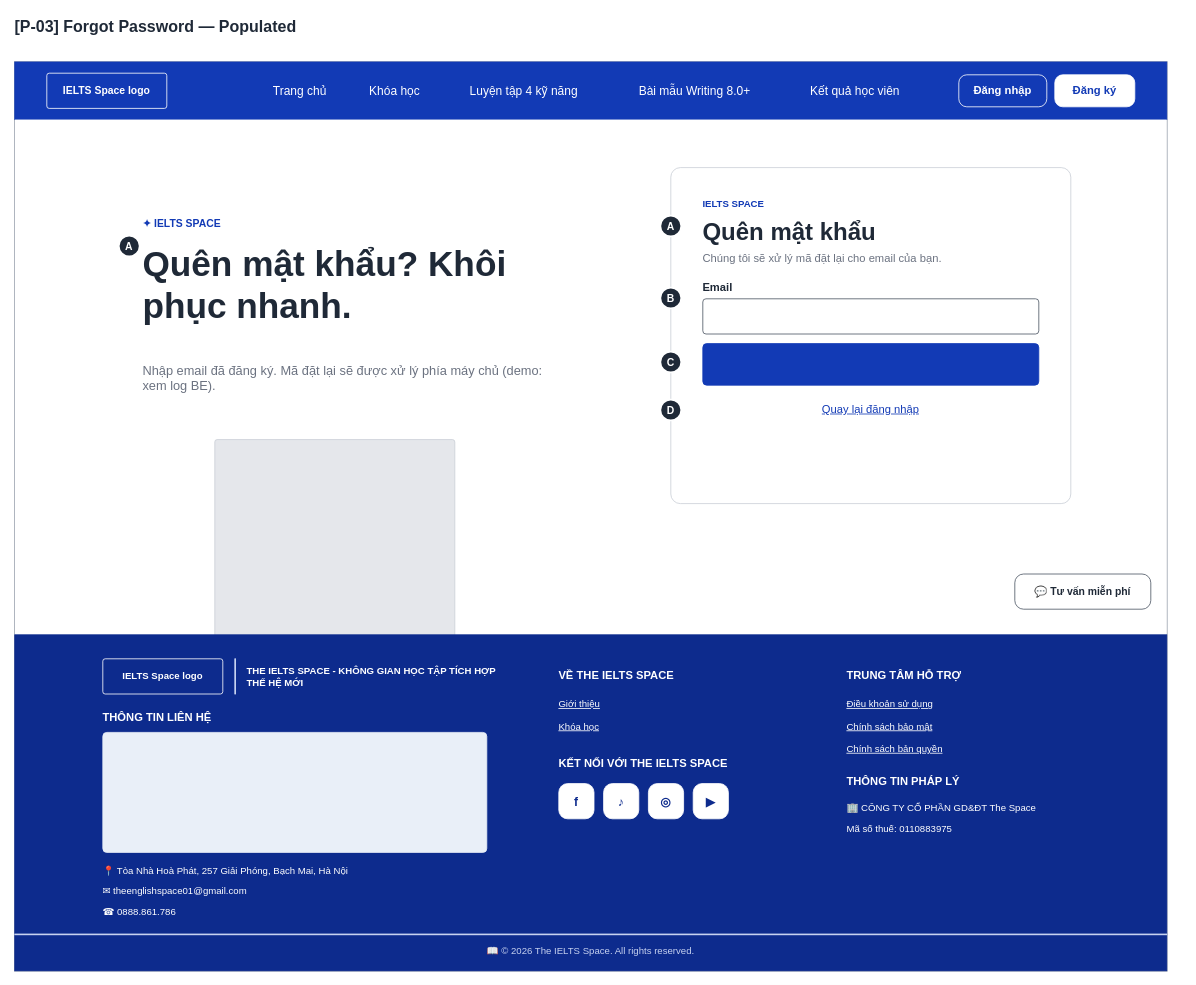
Image size: 1196x985. Some labels were removed from this diagram. The shapes that lost their labels are listed below. From the top down, each one's centre as x and y in pixels, then its label:
At point (870, 316): "name@example.com".
At point (870, 364): "Gửi mã đặt lại".
At point (334, 551): "▨ Mascot ClassMascot (lg)".
At point (294, 792): "📍 The IELTS Space Mở trong Maps ↗".
